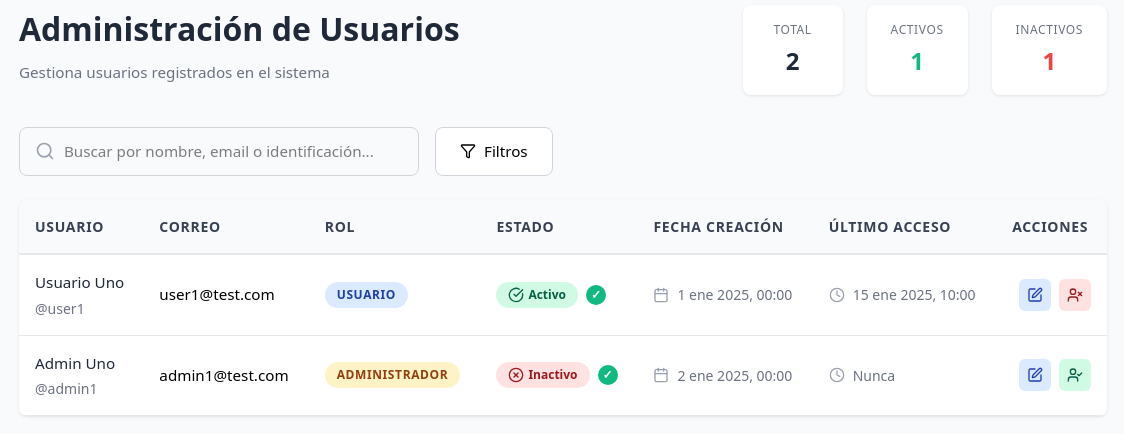
it: AdminUsers › debe permitir buscar usuarios por texto
Expected: the text "Usuario Uno" is shown, [35, 271, 127, 294]
Type "admin1" into the field with placeholder "Buscar por nombre, email o identificación..." at {"x": 219, "y": 151}, box [19, 127, 419, 176]
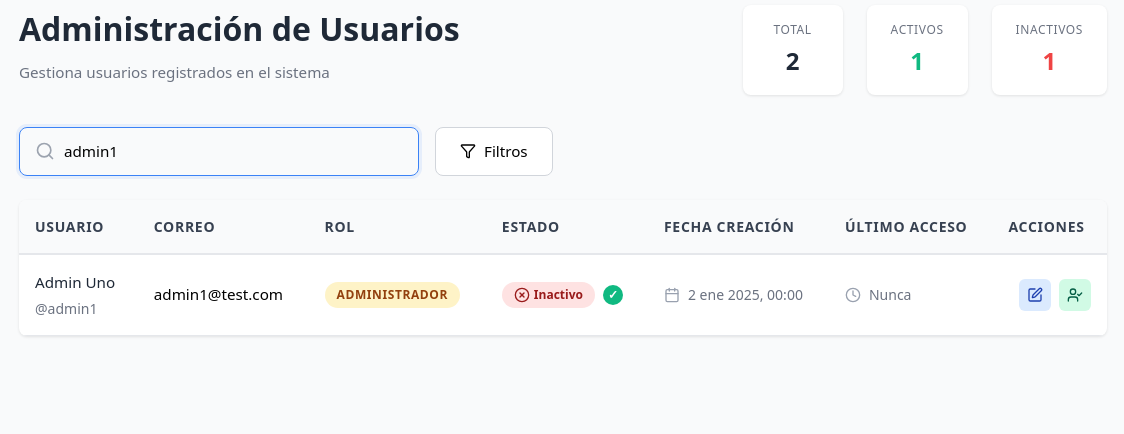
Expected: the text "Admin Uno" is shown, [35, 271, 122, 294]
Expected: the text "Usuario Uno" is gone
